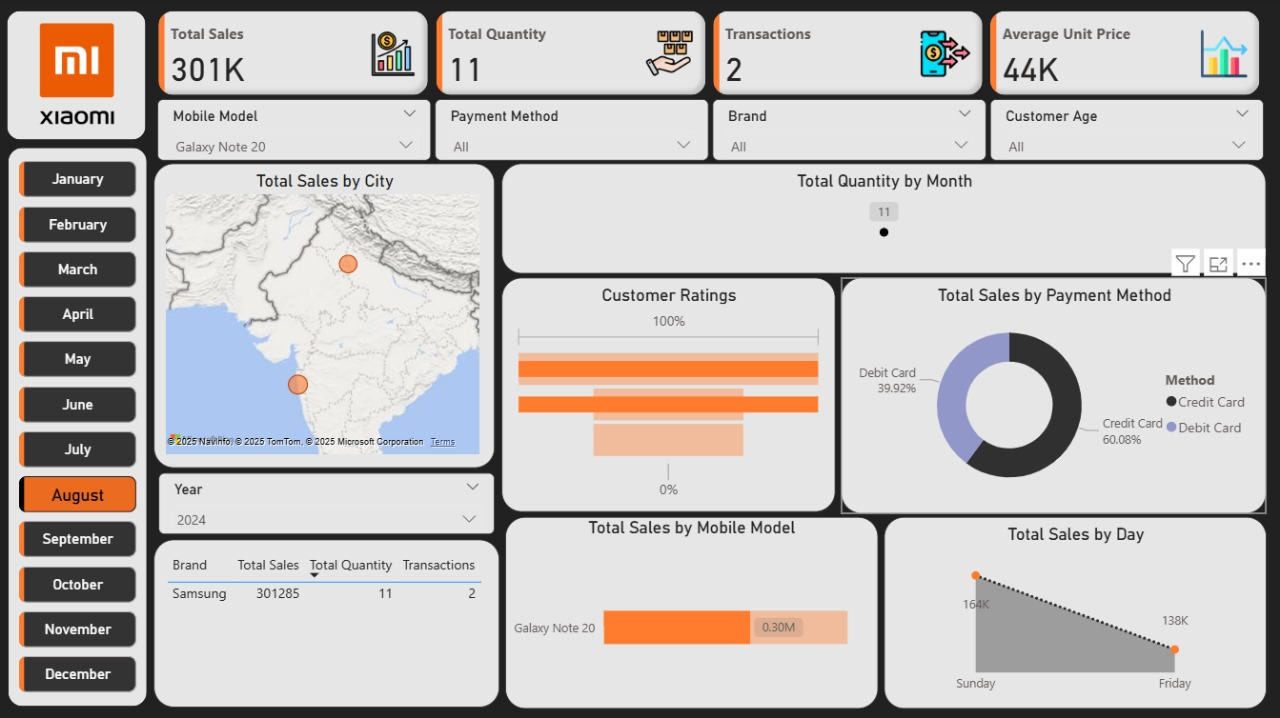

Layout of this report page (visuals, bound fields, positions):
{"tool":"powerbi","page":{"name":"Dashboard","canvas":[1280,720],"ordinal":0},"visuals":[{"type":"shape","box":[7.1,11.9,138.1,128.6],"z":0},{"type":"image","box":[6,11.9,141.7,126.2],"z":1000},{"type":"shape","box":[8.3,148.8,138.1,558.3],"z":2000},{"type":"advancedSlicerVisual","fields":{"Values":["Sheet1.Date.Variation.Date Hierarchy.Month"]},"box":[14.3,157.1,127.4,551.2],"z":3000},{"type":"cardVisual","fields":{"Data":["Sales Data.Total Sales","Sales Data.Total Quantity","Sales Data.Transactions","Sales Data.Average Unit Price"]},"box":[153.6,7.1,1111.9,94],"z":4000},{"type":"map","fields":{"Category":["Sales Data.City"],"Size":["Sales Data.Total Sales"]},"box":[153.6,164.3,340.5,304.8],"z":5000},{"type":"lineChart","fields":{"Y":["Sales Data.Total Quantity"],"Category":["Sales Data.Date.Variation.Date Hierarchy.Month","Sales Data.Date.Variation.Date Hierarchy.Day"]},"box":[501.2,164.3,764.3,110.7],"z":6000},{"type":"funnel","title":"Customer Ratings","fields":{"Category":["Sales Data.Customer Ratings"],"Y":["Sum(Sales Data.Customer Ratings)"]},"box":[501.2,278.6,333.3,234.5],"z":7000},{"type":"donutChart","fields":{"Category":["Sales Data.Payment Method"],"Y":["Sales Data.Total Sales"]},"box":[840.5,278.6,425,235.7],"z":8000},{"type":"clusteredBarChart","fields":{"Category":["Sales Data.Mobile Model"],"Y":["Sales Data.Total Sales"]},"box":[504.8,517.9,372.6,191.7],"z":9000},{"type":"tableEx","fields":{"Values":["Sales Data.Brand","Sales Data.Total Sales","Sales Data.Total Quantity","Sales Data.Transactions"]},"box":[153.6,540.5,345.2,167.9],"z":10000},{"type":"areaChart","fields":{"Category":["Sales Data.Day"],"Y":["Sales Data.Total Sales"]},"box":[883.3,517.9,382.1,191.7],"z":11000},{"type":"slicer","fields":{"Values":["Sales Data.Mobile Model"]},"box":[157.1,100,273.8,61.9],"z":12000},{"type":"slicer","fields":{"Values":["Sales Data.Payment Method"]},"box":[434.5,100,273.8,61.9],"z":13000},{"type":"slicer","fields":{"Values":["Sales Data.Brand"]},"box":[711.9,100,273.8,61.9],"z":14000},{"type":"slicer","fields":{"Values":["Sales Data.Customer Age"]},"box":[989.3,100,273.8,61.9],"z":15000},{"type":"slicer","fields":{"Values":["Sales Data.Date.Variation.Date Hierarchy.Year"]},"box":[158.3,473.8,335.7,61.9],"z":16000}]}

Visuals, with their boxes in screenshot pixels (x1, y1, x2, y2), scaled from the page's 1280x720 canvas onto the 1280x718 screenshot:
shape: detection(7, 12, 145, 140)
image: detection(6, 12, 148, 138)
shape: detection(8, 148, 146, 705)
advancedSlicerVisual - Sheet1.Date.Variation.Date Hierarchy.Month: detection(14, 157, 142, 706)
cardVisual - Sales Data.Total Sales x Sales Data.Total Quantity: detection(154, 7, 1266, 101)
map - Sales Data.City x Sales Data.Total Sales: detection(154, 164, 494, 468)
lineChart - Sales Data.Total Quantity x Sales Data.Date.Variation.Date Hierarchy.Month: detection(501, 164, 1266, 274)
"Customer Ratings" funnel: detection(501, 278, 834, 512)
donutChart - Sales Data.Payment Method x Sales Data.Total Sales: detection(840, 278, 1266, 513)
clusteredBarChart - Sales Data.Mobile Model x Sales Data.Total Sales: detection(505, 516, 877, 708)
tableEx - Sales Data.Brand x Sales Data.Total Sales: detection(154, 539, 499, 706)
areaChart - Sales Data.Day x Sales Data.Total Sales: detection(883, 516, 1265, 708)
slicer - Sales Data.Mobile Model: detection(157, 100, 431, 161)
slicer - Sales Data.Payment Method: detection(434, 100, 708, 161)
slicer - Sales Data.Brand: detection(712, 100, 986, 161)
slicer - Sales Data.Customer Age: detection(989, 100, 1263, 161)
slicer - Sales Data.Date.Variation.Date Hierarchy.Year: detection(158, 472, 494, 534)
